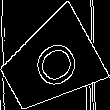O_SW: (20, 32, 80, 95)
